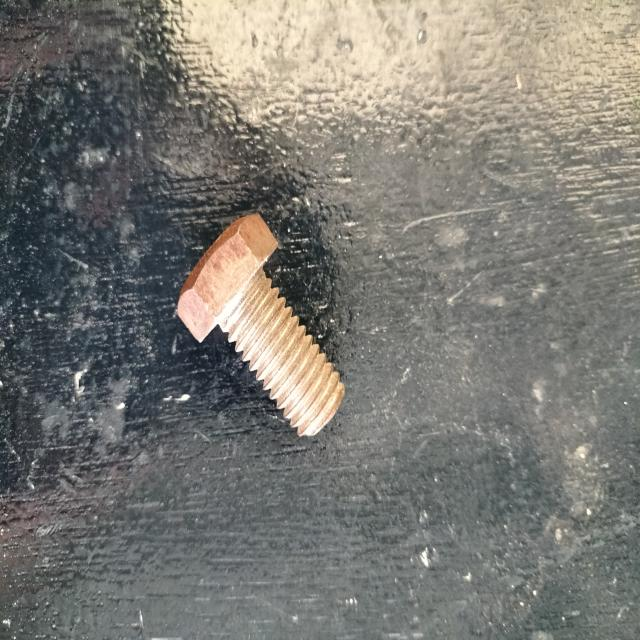bolt: (177, 211, 346, 437)
